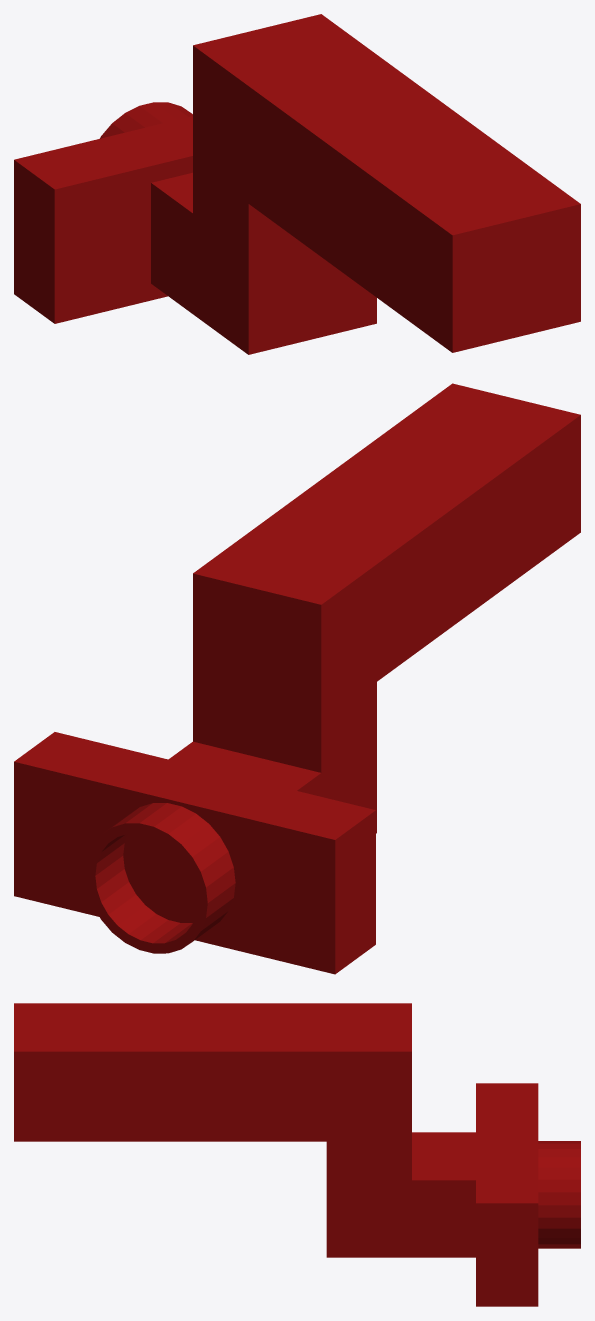
File: camera.dae
3 views of the same model, one above another, from view 1: azimuth 30°, elevation 25°; view 2: azimuth 150°, elevation 25°; view 3: azimuth 270°, elevation 25° (orthographic). The views are drawn at different scales.
Visible parts, largest first — view 1: node0; view 2: node0; view 3: node0.
Part boxes in pixels (x1=…): node0: x1=14, y1=14, x2=580, y2=354; node0: x1=14, y1=383, x2=580, y2=974; node0: x1=14, y1=1003, x2=580, y2=1306.
Bounding box in the file's own units: 0.1 × 0.1995 × 0.085.
